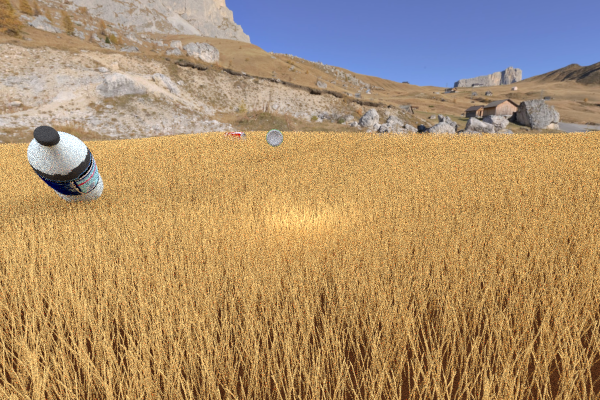Plastic Bottle: (27, 125, 103, 204), (265, 129, 283, 146), (221, 132, 246, 144)
